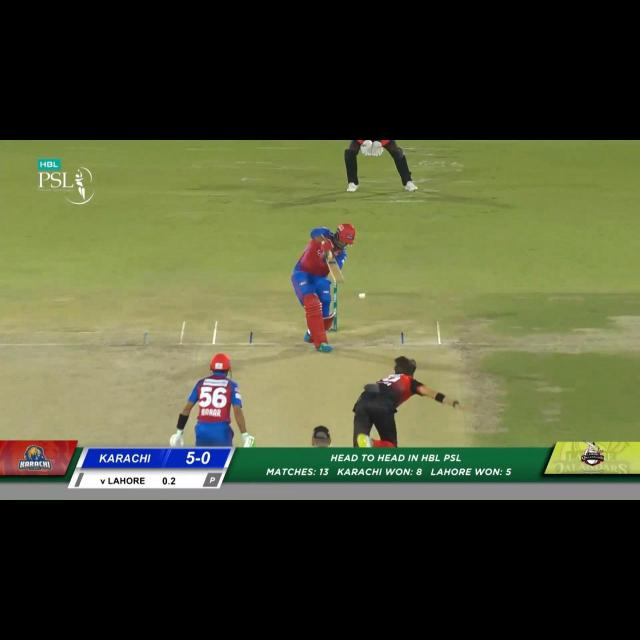bat: (326, 256, 345, 284)
toe: (334, 278, 345, 285)
